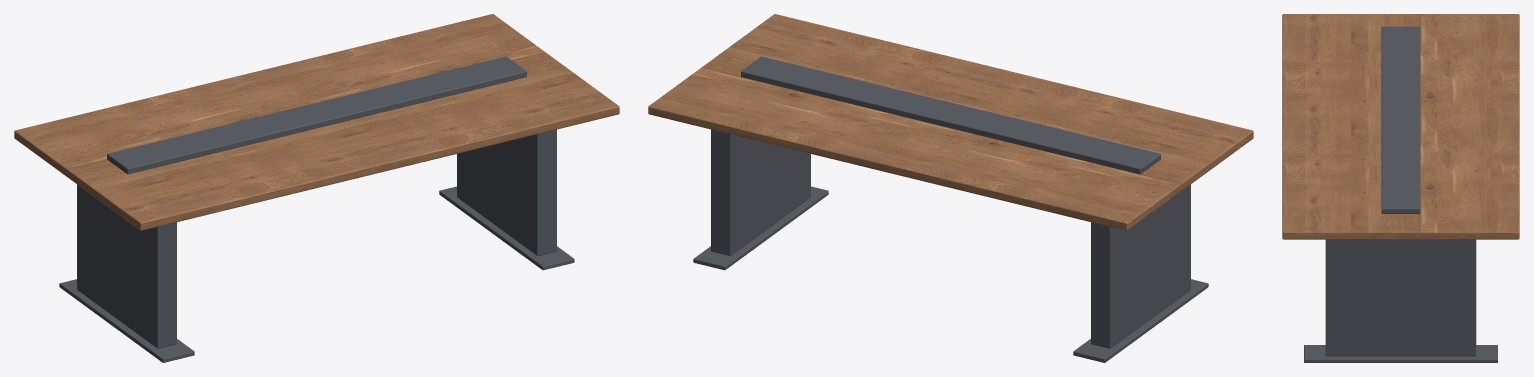
File: conf_table.glb
The picture shows the model from 3 angles, left to right: view 1: azimuth 30°, elevation 25°; view 2: azimuth 150°, elevation 25°; view 3: azimuth 270°, elevation 25°; orthographic projection. The views are drawn at different scales.
Parts seen in each view (by area): view 1: ConfTable; view 2: ConfTable; view 3: ConfTable.
Part boxes in pixels (<box>): ConfTable: <box>14,14,619,362</box>; ConfTable: <box>648,14,1253,362</box>; ConfTable: <box>1282,14,1519,362</box>.
Size of the model in its own units: 2.88 by 0.9336 by 1.32.
Materials: 3 (1 with a texture image).
